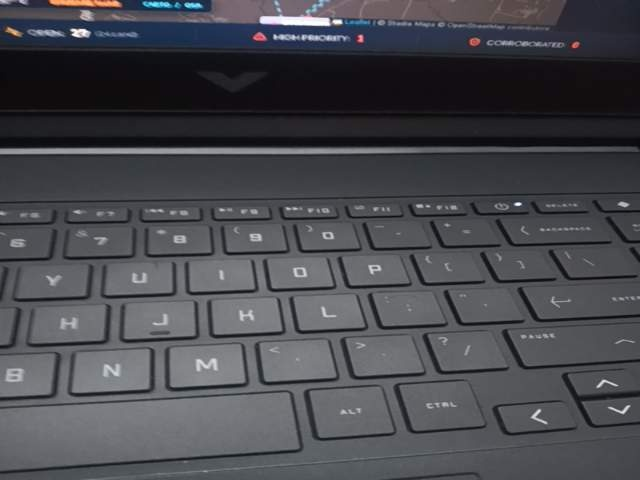pothole: (105, 135, 314, 364), (104, 305, 313, 480), (104, 403, 312, 480), (536, 403, 640, 480)
